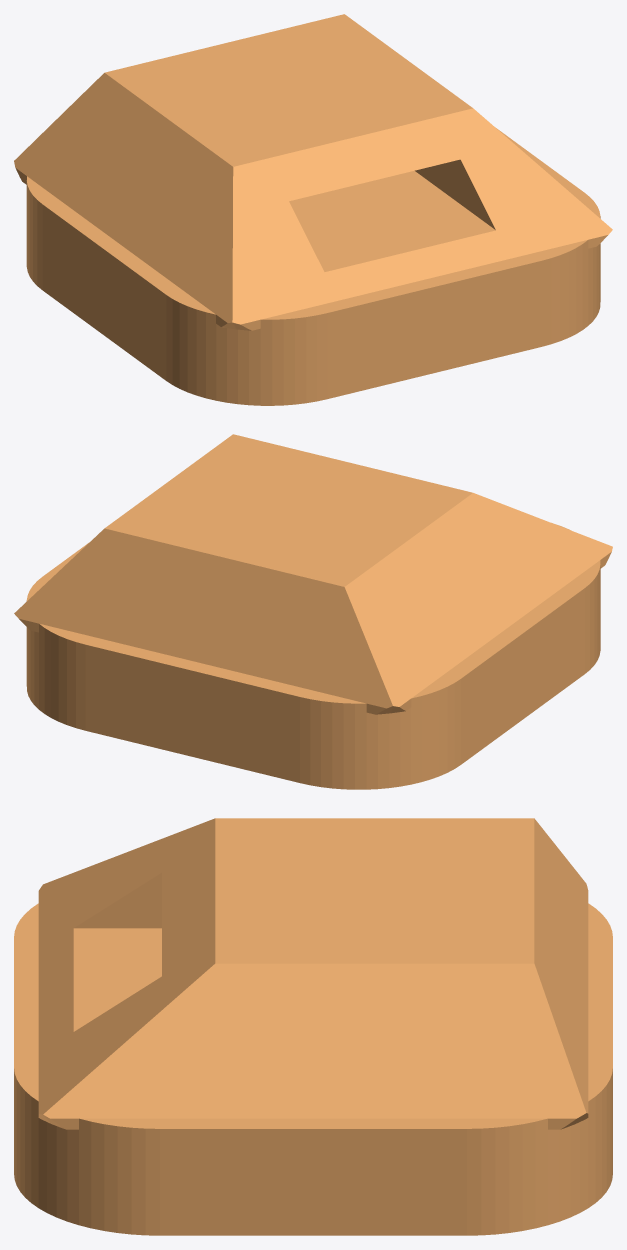
File: racer-hood-scoop.glb
3 renders of one model, top to bottom at view 1: azimuth 30°, elevation 25°; view 2: azimuth 150°, elevation 25°; view 3: azimuth 270°, elevation 25°, orthographic. The views are drawn at different scales.
Parts seen in each view (by area): view 1: racer-hood-scoop; view 2: racer-hood-scoop; view 3: racer-hood-scoop.
Part boxes in pixels (left/top/right/bottom): racer-hood-scoop: left=14, top=14, right=612, bottom=405; racer-hood-scoop: left=14, top=434, right=612, bottom=789; racer-hood-scoop: left=14, top=818, right=612, bottom=1235.
Size of the model in its own units: 0.0244 by 0.00981 by 0.0244.
